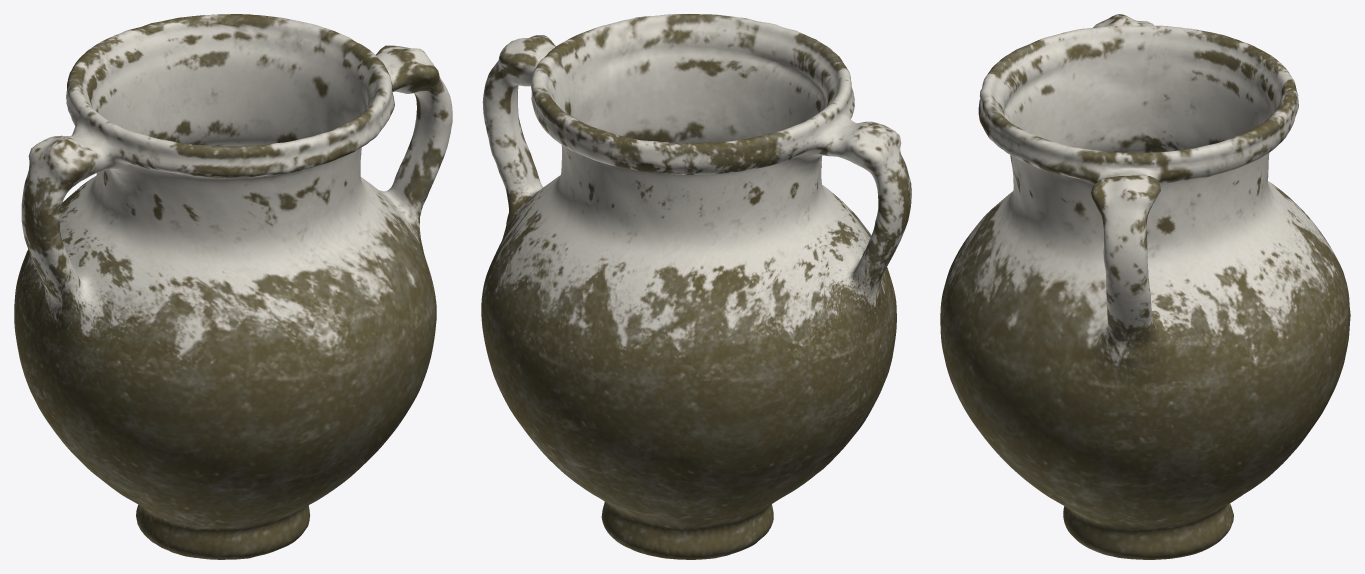
The picture shows the model from 3 angles, left to right: view 1: azimuth 30°, elevation 25°; view 2: azimuth 150°, elevation 25°; view 3: azimuth 270°, elevation 25°; orthographic projection. The views are drawn at different scales.
Parts seen in each view (by area): view 1: Retopo_SuperVoxels; view 2: Retopo_SuperVoxels; view 3: Retopo_SuperVoxels.
Part boxes in pixels (x1=…): Retopo_SuperVoxels: x1=14, y1=14, x2=452, y2=559; Retopo_SuperVoxels: x1=481, y1=14, x2=911, y2=559; Retopo_SuperVoxels: x1=940, y1=14, x2=1350, y2=559.
Bounding box in the file's own units: 23.59 × 24.11 × 20.36.
Materials: 1 (1 with a texture image).
